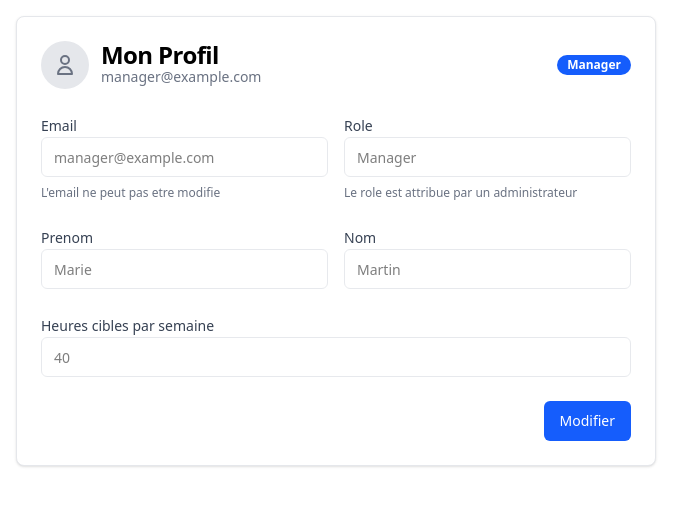
Test: ProfilePage › Validation - AC4 › shows error when weekly hours are negative
The width and height of the screenshot is (673, 512).
expect the heading "Mon Profil" is shown: met, box [101,38,219,71]
Click the button "Modifier" at [587, 421], box [544,401,631,441]
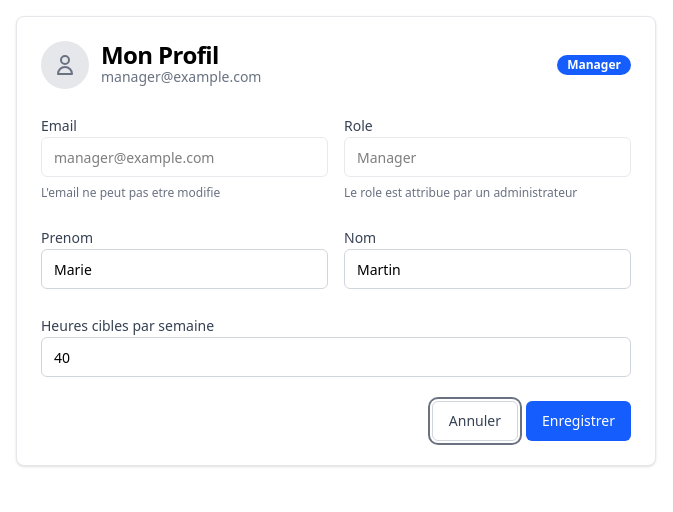
Replace the text in the number field labelled "Heures cibles par semaine" with "-5" at [336, 357], box [41,337,631,377]
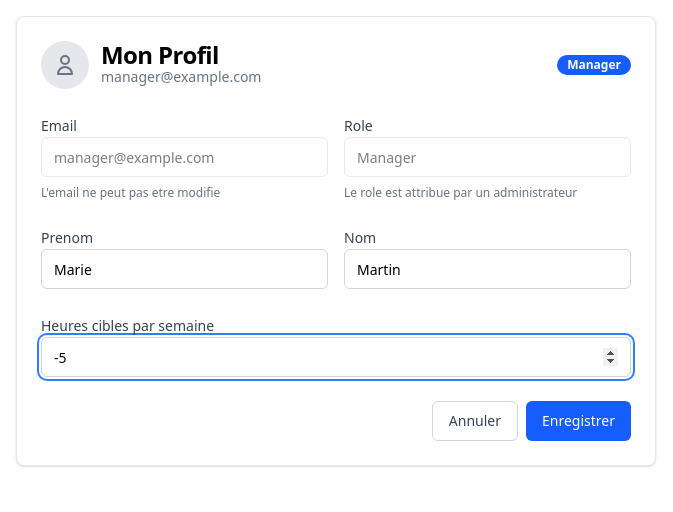
Click the button "Enregistrer" at [578, 421], box [526,401,631,441]
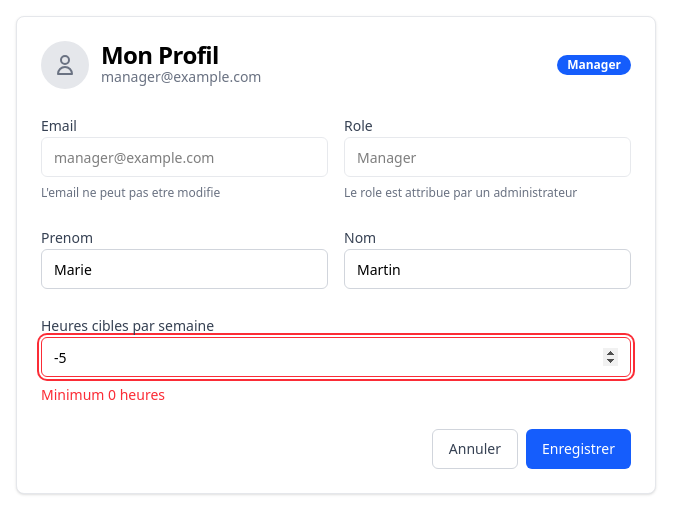
expect the text "Minimum 0 heures" is shown: met, box [41,385,165,404]
